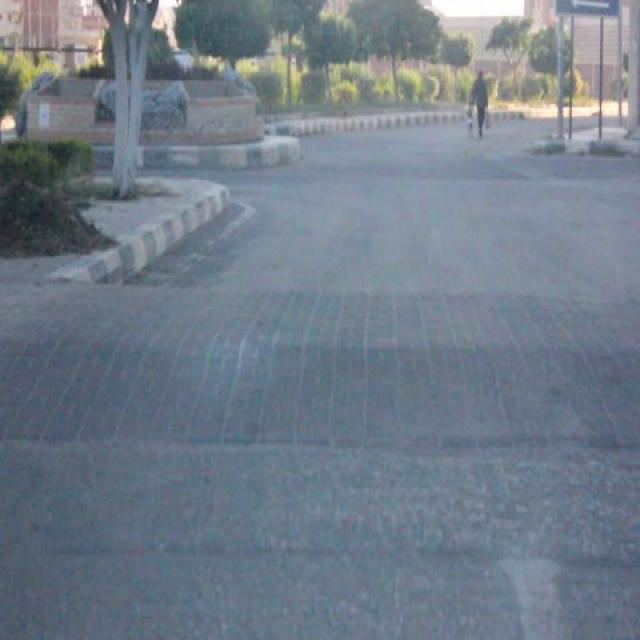Unmarked Bump: (2, 277, 638, 467)
